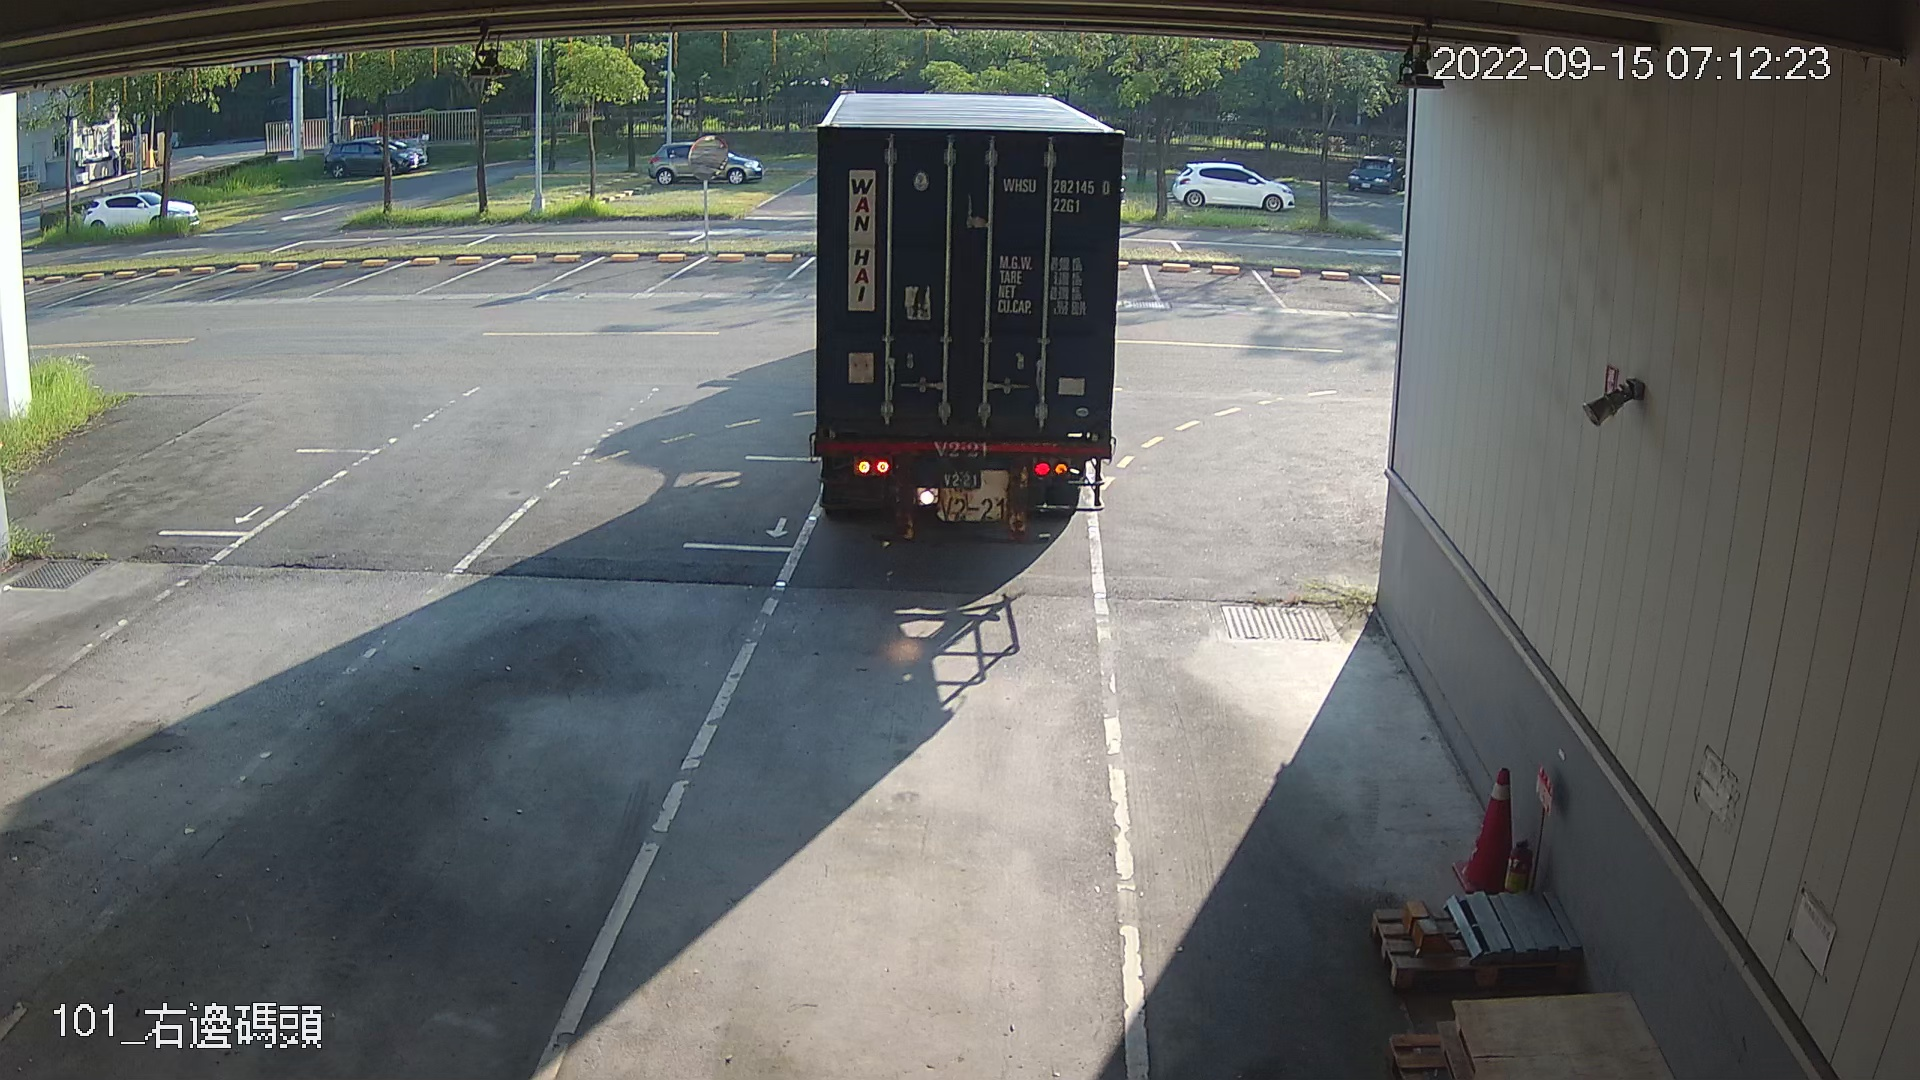container: (994, 166, 1117, 222)
